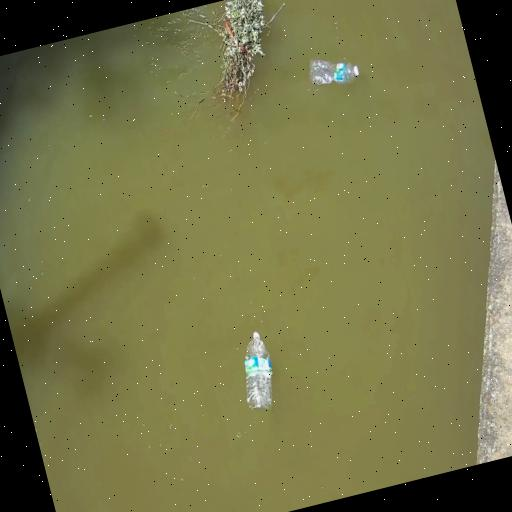plastic: (245, 332, 272, 409), (309, 58, 359, 92)
